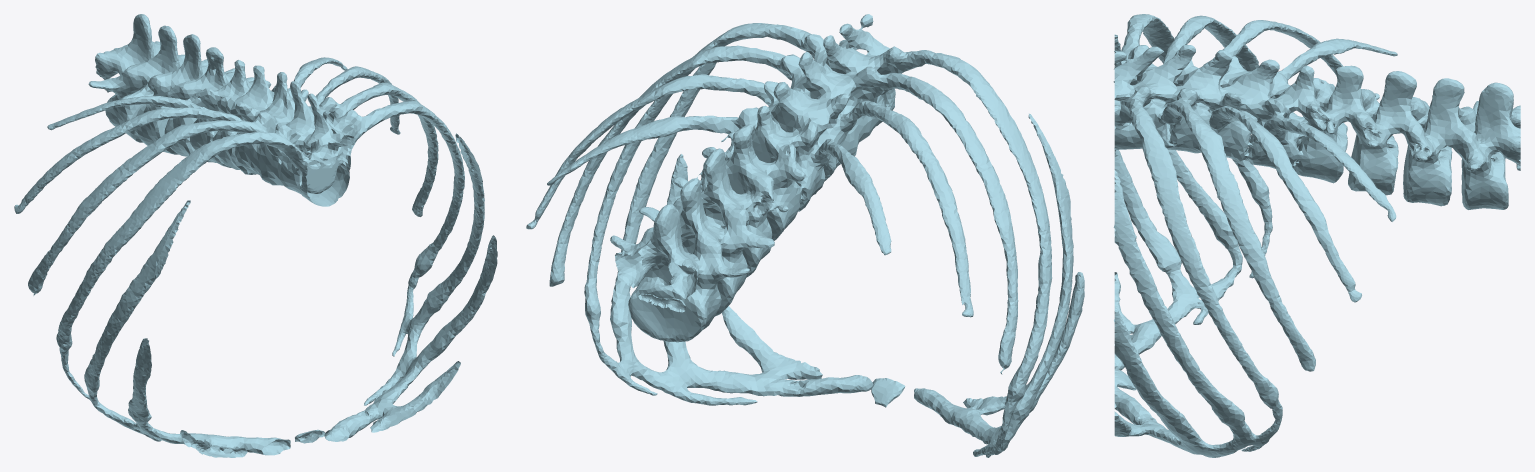
File: bone.obj
The picture shows the model from 3 angles, left to right: view 1: azimuth 30°, elevation 25°; view 2: azimuth 150°, elevation 25°; view 3: azimuth 270°, elevation 25°; orthographic projection. The views are drawn at different scales.
Parts seen in each view (by area): view 1: grp1; view 2: grp1; view 3: grp1.
Part boxes in pixels (x1=…): grp1: x1=14, y1=14, x2=497, y2=457; grp1: x1=526, y1=14, x2=1084, y2=457; grp1: x1=1113, y1=14, x2=1520, y2=457.
Size of the model in its own units: 291 by 239 by 246.
